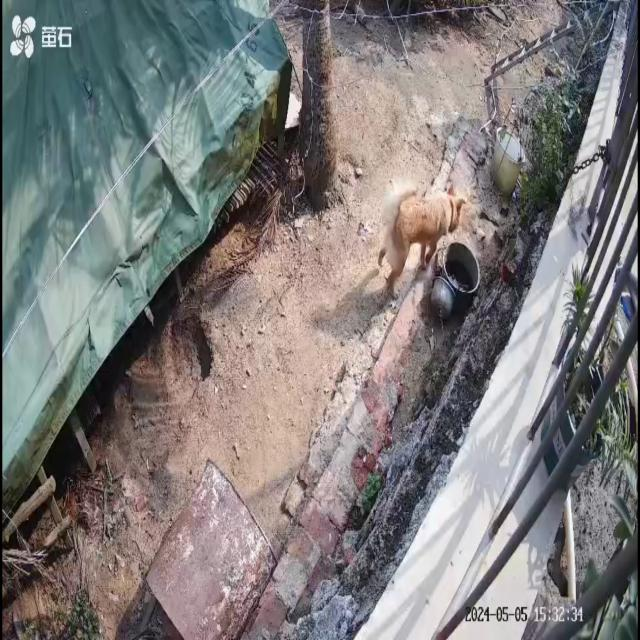dog: (378, 178, 467, 299)
